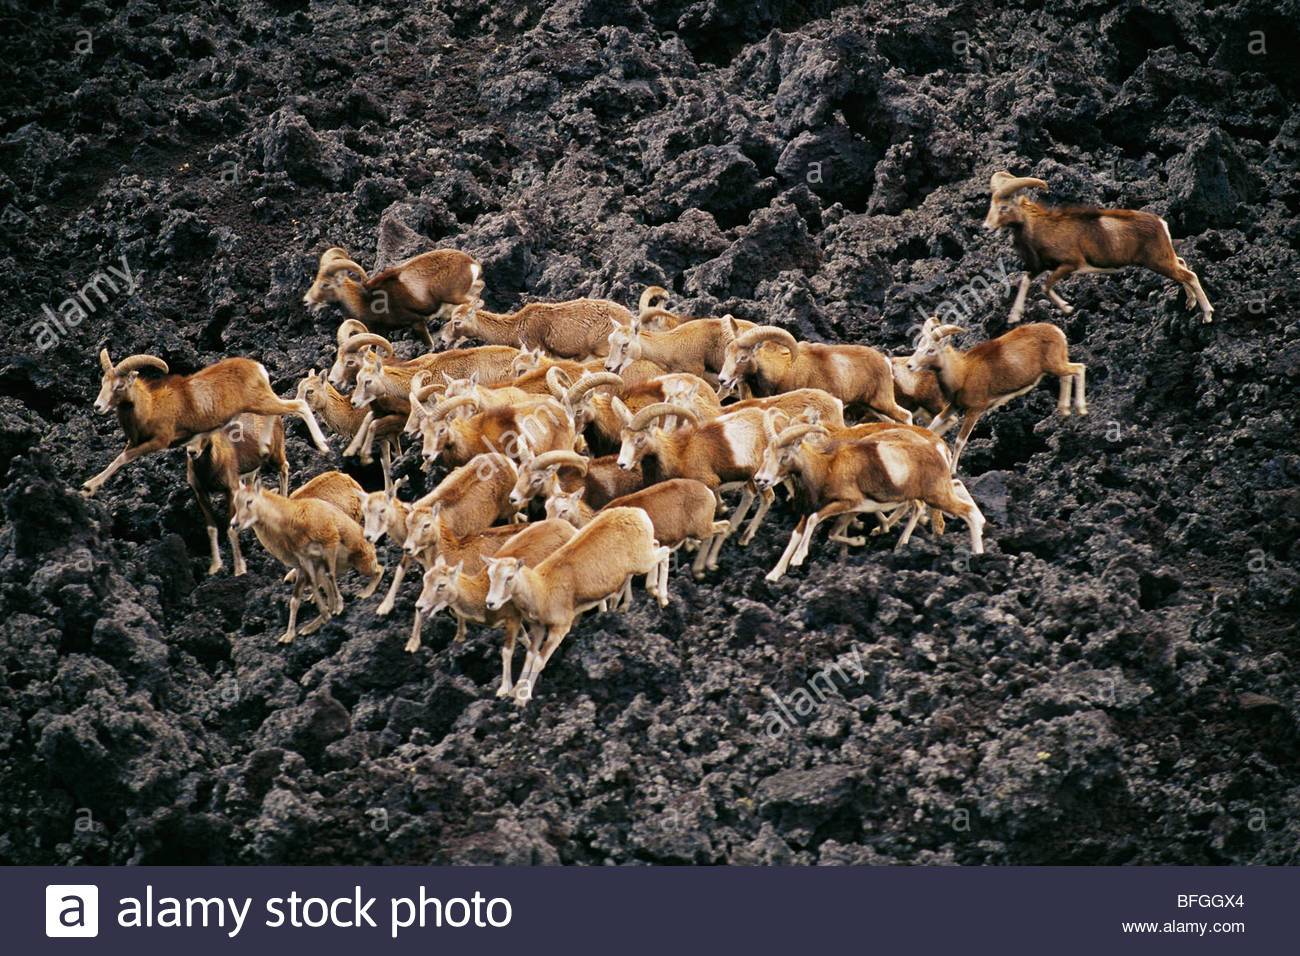sheep: (753, 410, 987, 582), (978, 165, 1214, 328), (611, 379, 846, 540), (484, 505, 672, 692), (414, 511, 595, 697), (714, 304, 926, 450), (362, 446, 524, 637), (88, 350, 329, 462), (908, 317, 1091, 460), (219, 481, 381, 633), (600, 312, 772, 433), (445, 292, 634, 399), (298, 244, 481, 353), (350, 355, 530, 440), (300, 360, 414, 484)
